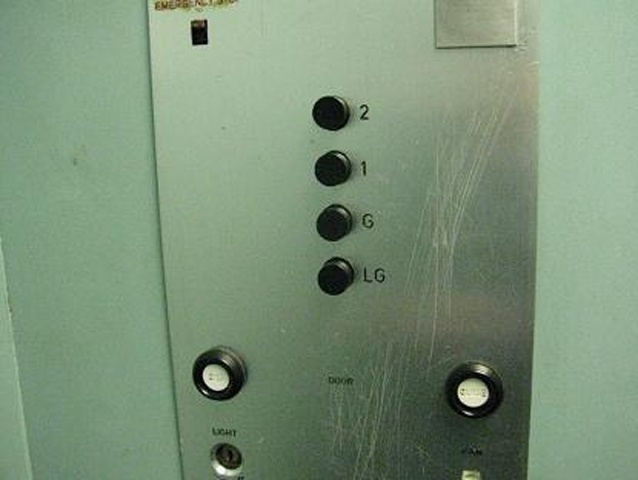empty: (308, 90, 353, 136), (313, 251, 357, 296), (315, 200, 355, 246), (310, 149, 354, 190)
keyhole: (207, 440, 248, 478)
text_blur: (444, 364, 506, 419), (192, 346, 251, 402)
